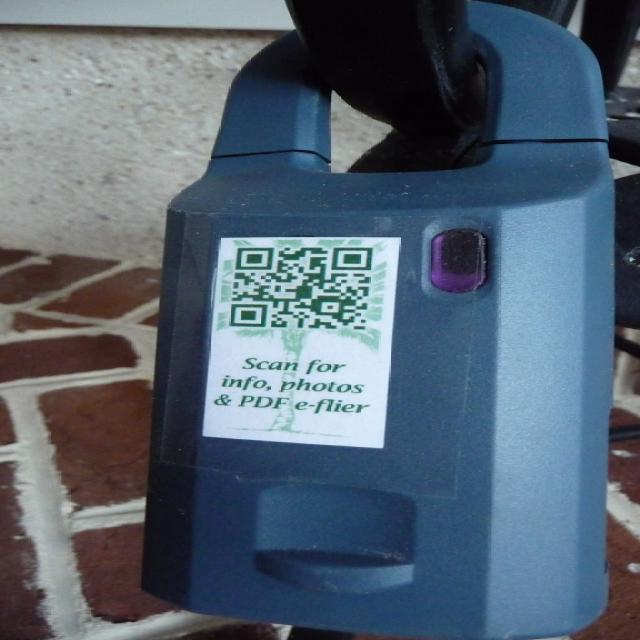qrcode: (229, 249, 374, 331)
